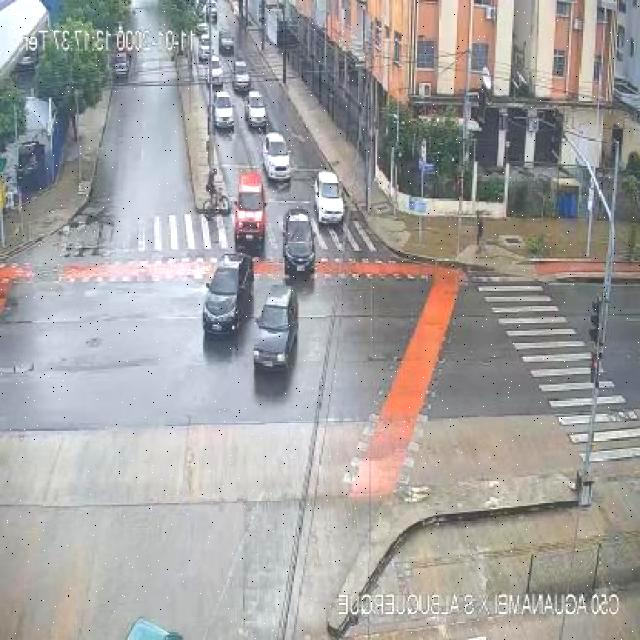bicycle: (203, 169, 229, 220)
car: (202, 254, 252, 338), (253, 286, 298, 371), (237, 169, 266, 246), (282, 209, 316, 274), (314, 171, 344, 224), (264, 134, 292, 182), (243, 89, 266, 128), (232, 60, 252, 96), (214, 93, 232, 130), (208, 59, 224, 90), (198, 34, 215, 63), (219, 31, 236, 54), (115, 53, 128, 73), (207, 1, 218, 24)
motorbike: (474, 210, 482, 255)
